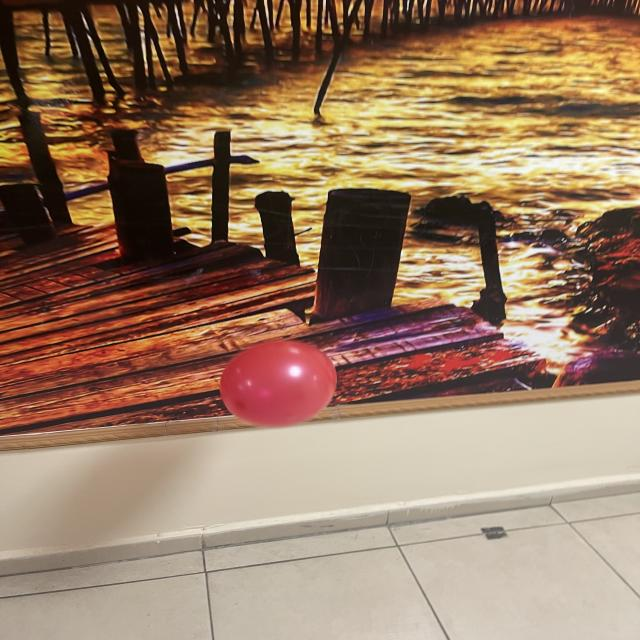balloon: (220, 340, 337, 427)
